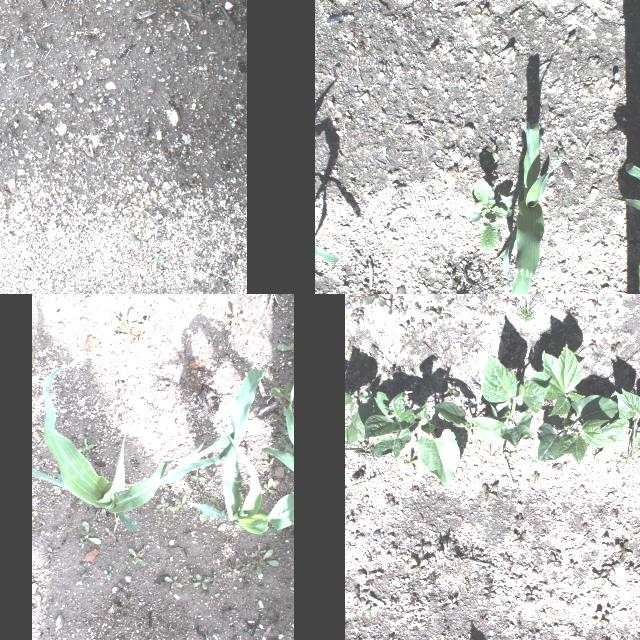crop: (31, 354, 249, 530), (188, 367, 294, 546), (489, 122, 557, 294), (530, 343, 624, 467), (479, 349, 548, 447), (260, 372, 294, 511), (414, 401, 461, 487), (364, 390, 414, 460), (431, 400, 502, 446), (614, 386, 640, 455), (622, 197, 640, 294), (344, 390, 362, 450), (314, 243, 338, 263), (624, 158, 640, 187)
weed: (470, 175, 514, 252), (556, 451, 640, 469), (112, 308, 146, 348), (270, 381, 294, 421), (250, 542, 278, 574), (348, 468, 380, 486), (276, 330, 294, 360), (230, 304, 246, 334), (346, 440, 372, 456), (608, 70, 622, 98), (481, 481, 497, 502), (127, 548, 145, 566), (473, 2, 489, 22), (428, 306, 448, 322), (169, 494, 187, 511), (409, 557, 428, 573), (128, 230, 144, 248), (192, 573, 210, 589), (74, 438, 94, 452), (594, 610, 608, 630), (520, 300, 534, 320), (206, 287, 245, 294), (620, 541, 632, 563), (363, 294, 385, 306), (486, 142, 499, 162), (414, 540, 430, 556), (164, 575, 182, 589), (74, 294, 99, 304), (280, 437, 294, 454), (80, 521, 94, 537), (189, 473, 205, 487), (260, 478, 274, 494), (398, 322, 414, 336), (564, 32, 576, 50), (156, 495, 168, 513), (74, 536, 100, 544), (200, 495, 208, 521), (444, 382, 458, 396), (546, 554, 560, 568), (446, 272, 458, 288), (237, 490, 249, 506), (592, 570, 608, 582), (492, 442, 504, 458), (383, 298, 395, 314), (525, 586, 537, 602), (602, 563, 620, 573), (466, 78, 482, 89), (91, 336, 102, 352), (580, 83, 594, 95), (403, 454, 415, 468), (362, 600, 374, 614), (350, 307, 362, 321), (352, 588, 361, 606), (206, 334, 217, 348), (355, 294, 370, 304), (554, 148, 566, 160), (604, 606, 616, 618), (624, 566, 640, 574), (503, 147, 513, 159), (226, 565, 236, 577), (208, 497, 218, 509), (261, 456, 273, 466), (386, 367, 398, 377), (485, 588, 497, 598), (512, 533, 524, 543), (520, 95, 532, 104), (76, 536, 85, 548), (498, 279, 508, 289), (445, 119, 455, 129), (345, 177, 355, 187), (358, 96, 368, 106), (45, 546, 55, 556), (278, 416, 288, 426), (418, 318, 428, 328), (152, 254, 164, 262), (14, 276, 22, 288), (416, 136, 428, 144), (240, 562, 252, 570), (440, 178, 448, 188), (133, 418, 143, 426), (447, 598, 457, 606), (569, 563, 577, 573), (347, 294, 355, 303), (242, 550, 250, 558), (103, 568, 109, 578), (247, 573, 253, 583), (108, 564, 112, 576), (58, 522, 64, 530), (49, 492, 57, 498), (281, 427, 287, 435), (124, 483, 130, 491), (10, 48, 14, 58), (66, 526, 76, 530), (484, 36, 492, 40), (152, 108, 156, 114), (213, 592, 219, 596), (31, 516, 33, 520)
